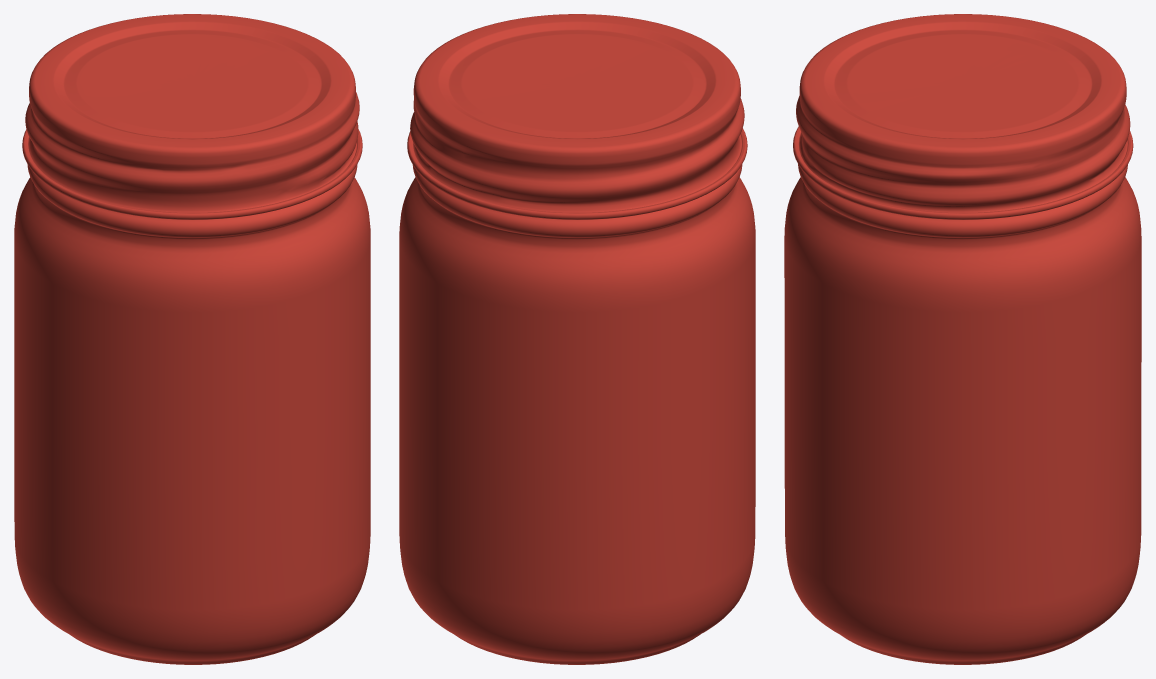
The model's file is container_jar_glass_red_a01.glb.
3 renders of one model, left to right at view 1: azimuth 30°, elevation 25°; view 2: azimuth 150°, elevation 25°; view 3: azimuth 270°, elevation 25°, orthographic.
Size of the model in its own units: 0.1148 by 0.1868 by 0.115.
